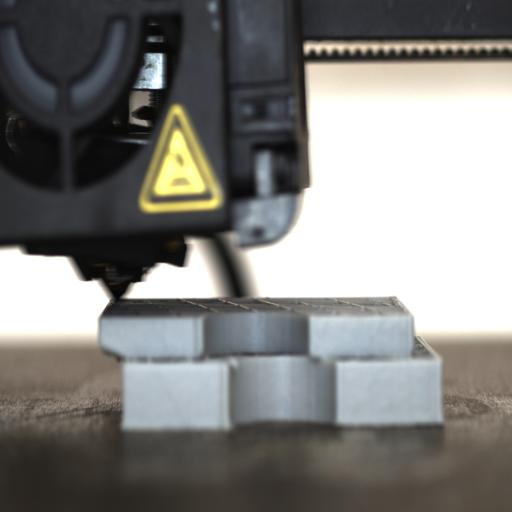layer_shift: (102, 339, 442, 368)
